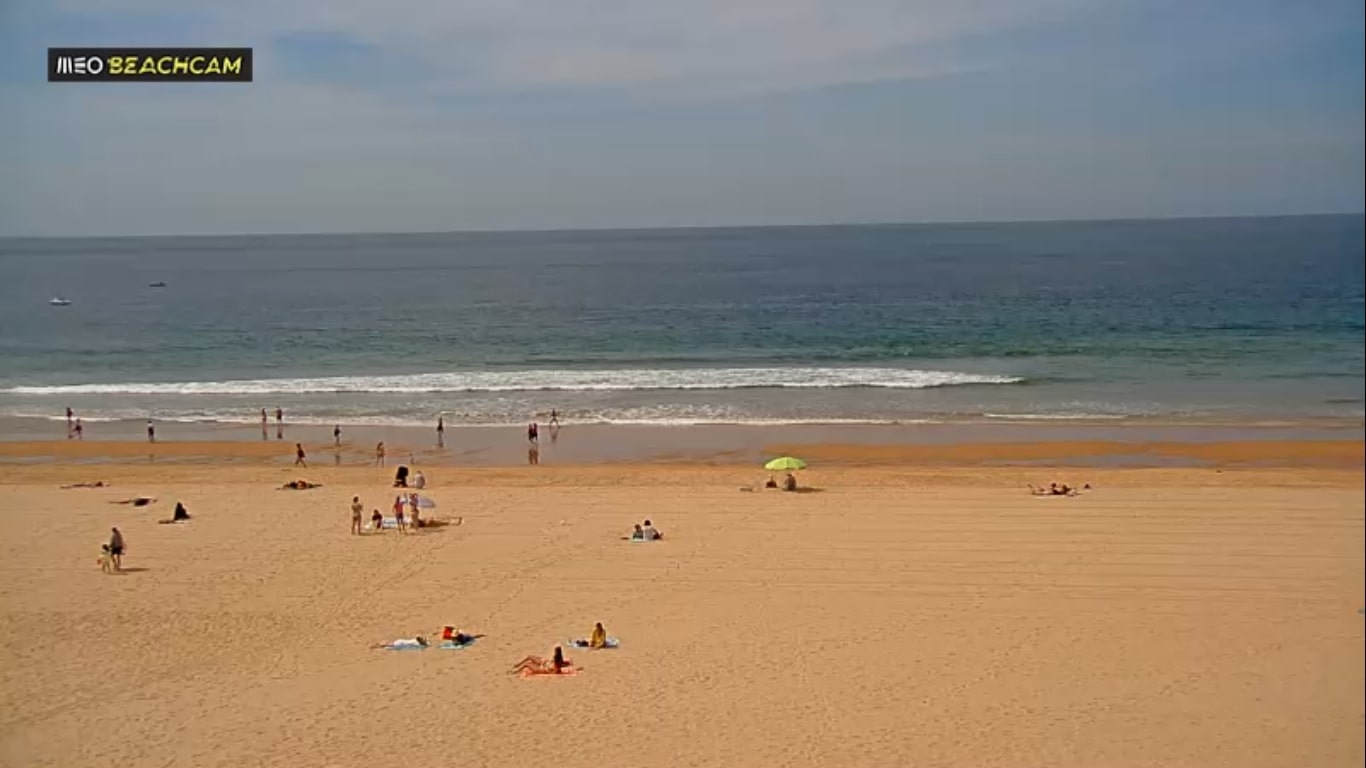person: (507, 645, 571, 675), (110, 525, 125, 570), (350, 495, 364, 534), (1031, 483, 1071, 496), (590, 621, 607, 647), (407, 491, 419, 526), (391, 495, 404, 527), (642, 519, 660, 539), (172, 500, 187, 521), (294, 443, 306, 468), (97, 543, 108, 570), (782, 473, 799, 490), (376, 440, 386, 466), (371, 508, 383, 528), (436, 416, 445, 442), (549, 408, 559, 428), (414, 469, 424, 488), (333, 425, 342, 444), (275, 405, 283, 426), (147, 420, 155, 440), (260, 407, 268, 426), (632, 521, 640, 538), (75, 417, 82, 434), (533, 421, 538, 440), (528, 421, 533, 440), (65, 406, 72, 417)
